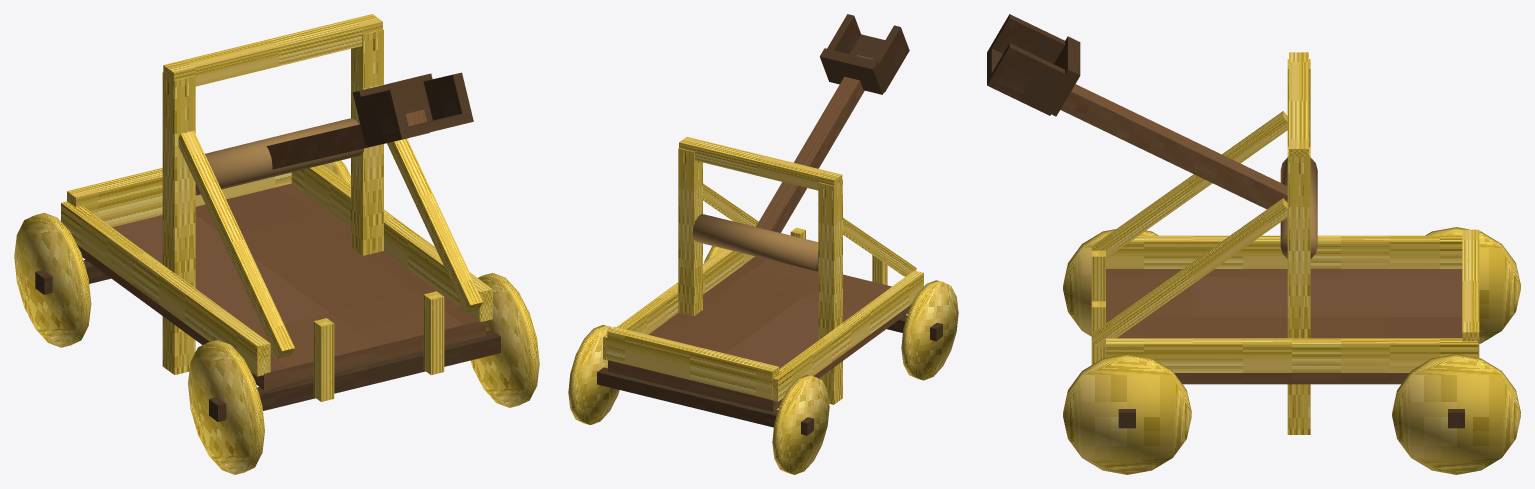
Rendered from ae_catapult_small_royal_lod2.glb.
3 views of the same model, side by side, from view 1: azimuth 30°, elevation 25°; view 2: azimuth 150°, elevation 25°; view 3: azimuth 270°, elevation 25° (orthographic). The views are drawn at different scales.
Parts seen in each view (by area): view 1: bed, sideL, post_L, wheel_FL_tyre, wheel_RL_tyre, cross_top, wheel_RR_tyre, sideR, post_R, brace_-0.72, axle_rear, front_stop (+10 smaller); view 2: bed, front_stop, sideL, post_L, wheel_FL_tyre, wheel_RL_tyre, arm_beam, post_R, skein, cross_top, axle_front, wheel_FR_tyre (+7 smaller); view 3: bed, wheel_RR_tyre, wheel_FR_tyre, sideR, sideL, arm_beam, post_R, brace_0.72, brace_-0.72, wheel_FL_tyre, spoon_R, wheel_RL_tyre (+8 smaller).
Part boxes in pixels (x1,y1,x2,y2): bed: [77, 183, 486, 389]; sideL: [61, 201, 270, 376]; post_L: [162, 72, 195, 374]; wheel_FL_tyre: [14, 212, 91, 347]; wheel_RL_tyre: [188, 340, 264, 474]; cross_top: [163, 14, 382, 86]; wheel_RR_tyre: [470, 273, 539, 407]; sideR: [291, 165, 492, 322]; post_R: [351, 29, 383, 255]; brace_-0.72: [178, 131, 294, 358]; axle_rear: [209, 330, 500, 421]; front_stop: [67, 168, 291, 227]; bed: [608, 256, 911, 411]; front_stop: [607, 326, 779, 399]; sideL: [771, 270, 923, 401]; post_L: [818, 179, 842, 404]; wheel_FL_tyre: [772, 374, 829, 474]; wheel_RL_tyre: [901, 280, 958, 380]; arm_beam: [756, 55, 873, 232]; post_R: [678, 148, 702, 316]; skein: [692, 214, 818, 271]; cross_top: [679, 137, 842, 190]; axle_front: [597, 367, 813, 435]; wheel_FR_tyre: [568, 325, 619, 424]; bed: [1106, 269, 1462, 384]; wheel_RR_tyre: [1063, 354, 1191, 474]; wheel_FR_tyre: [1392, 354, 1520, 474]; sideR: [1106, 338, 1477, 372]; sideL: [1106, 235, 1462, 268]; arm_beam: [1060, 84, 1287, 209]; post_R: [1287, 146, 1310, 434]; brace_0.72: [1091, 198, 1287, 349]; brace_-0.72: [1091, 111, 1287, 258]; wheel_FL_tyre: [1425, 227, 1520, 343]; spoon_R: [990, 43, 1072, 109]; wheel_RL_tyre: [1063, 229, 1158, 336].
Bounding box in the file's own units: 2.3 × 2.92 × 3.73.
Materials: 3 (3 with a texture image).
